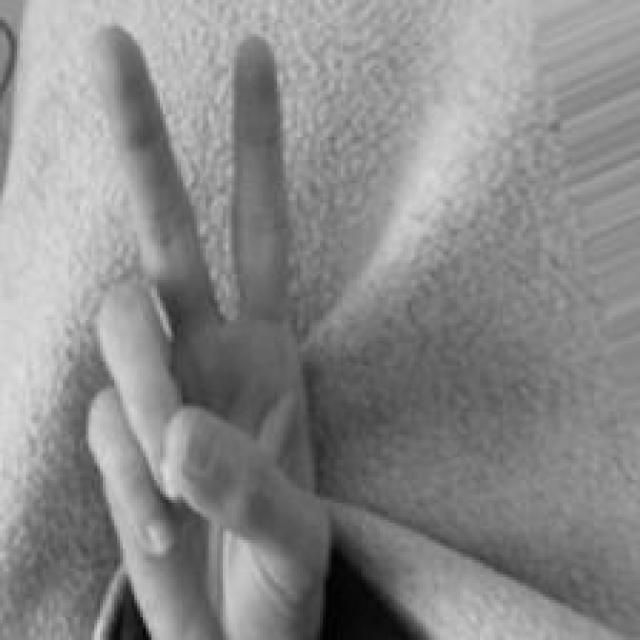V: (80, 20, 332, 640)
